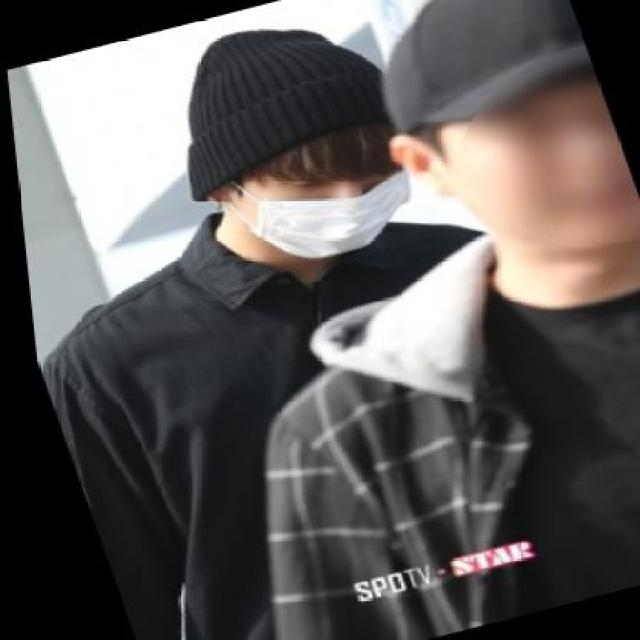hat: (125, 0, 442, 211), (341, 0, 594, 142)
